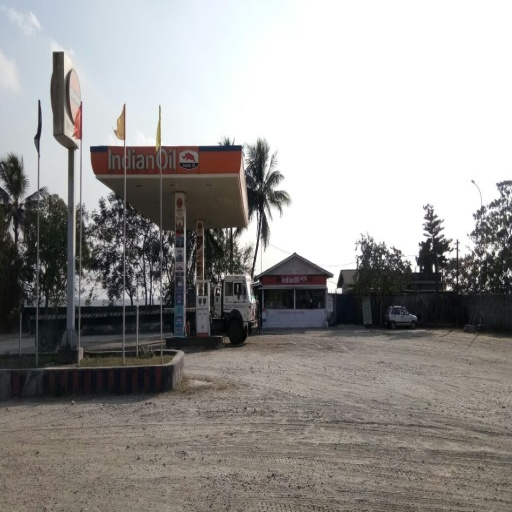roof: (90, 145, 249, 231)
